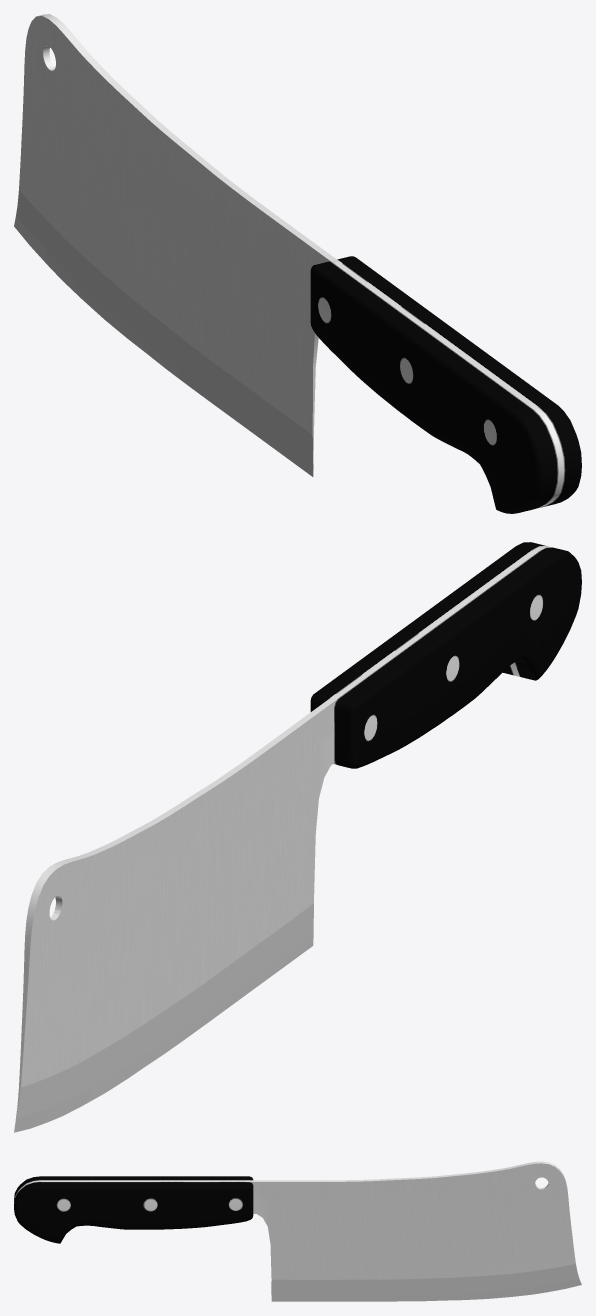
Rendered from butcher-knife.glb.
3 views of the same model, one above another, from view 1: azimuth 30°, elevation 25°; view 2: azimuth 150°, elevation 25°; view 3: azimuth 270°, elevation 25° (orthographic). The views are drawn at different scales.
Parts seen in each view (by area): view 1: Object_2; view 2: Object_2; view 3: Object_2.
Boxes of the visible parts, x1,y1,x2,y2 form: Object_2: [14, 14, 581, 513]; Object_2: [14, 542, 581, 1132]; Object_2: [14, 1161, 581, 1301].
Bounding box in the file's own units: 2.26 × 12.53 × 46.36.
Materials: 1 (1 with a texture image).
